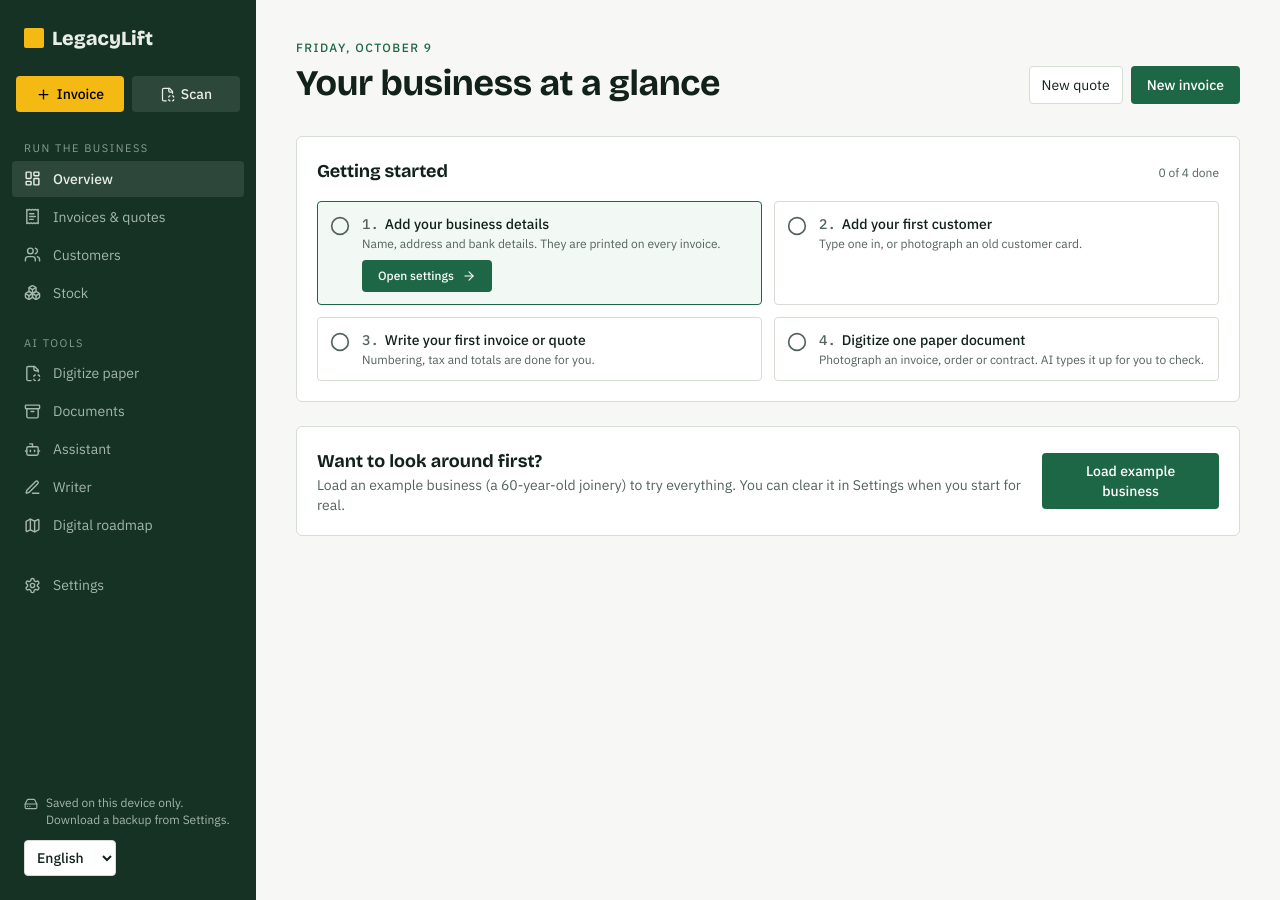
workspace UI › loads the example business and shows overdue work
This screenshot has width=1280, height=900.
Click the button "Load example business" at (1131, 481), box [1042,453,1219,509]
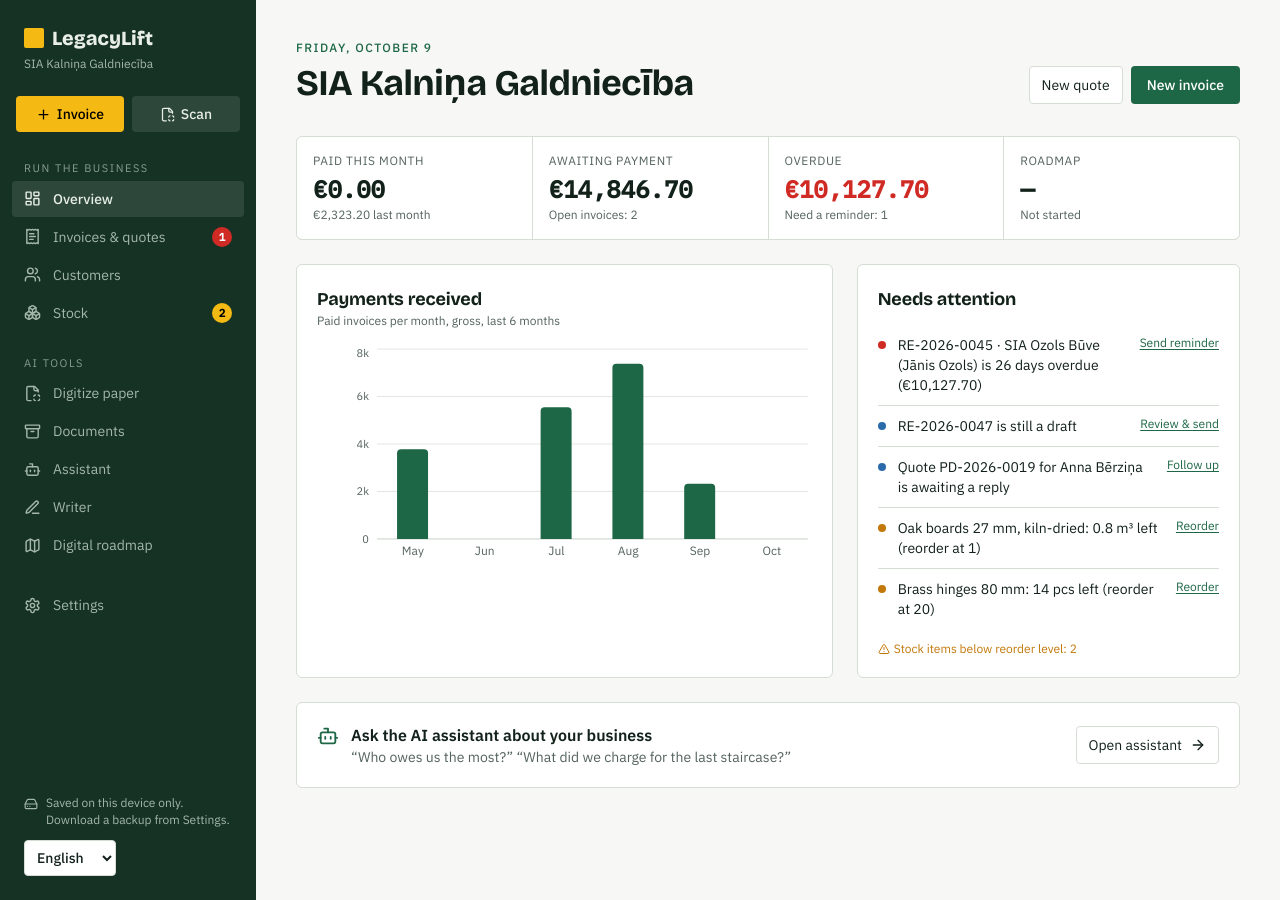
Expected: the heading "SIA Kalniņa Galdniecība" is shown, [296,64,694,104]
Expected: the text "days overdue" is shown, [898,336,1100,394]
